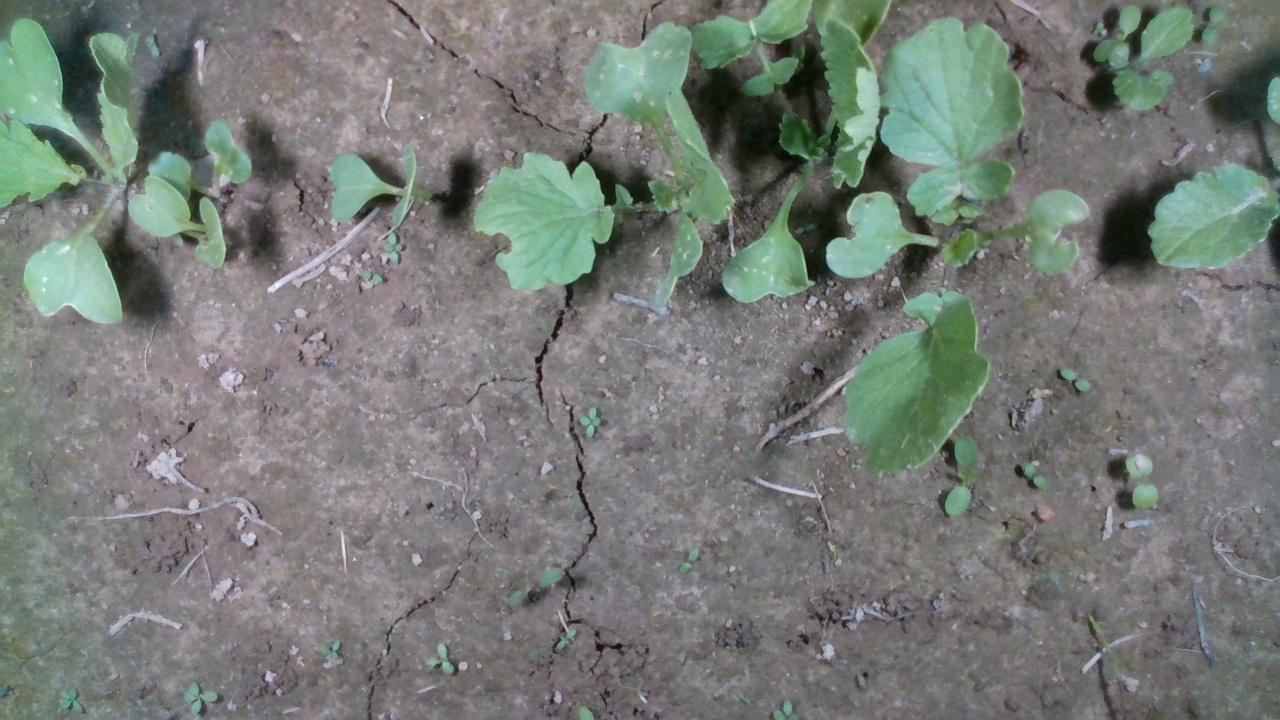weed: (503, 565, 565, 607), (1123, 449, 1159, 511), (179, 678, 219, 716), (423, 640, 455, 676), (1017, 458, 1049, 491), (576, 403, 600, 438), (56, 682, 82, 714), (1058, 366, 1090, 392), (381, 230, 403, 266), (315, 637, 341, 662), (677, 546, 700, 574), (553, 626, 577, 650), (356, 267, 385, 284)
